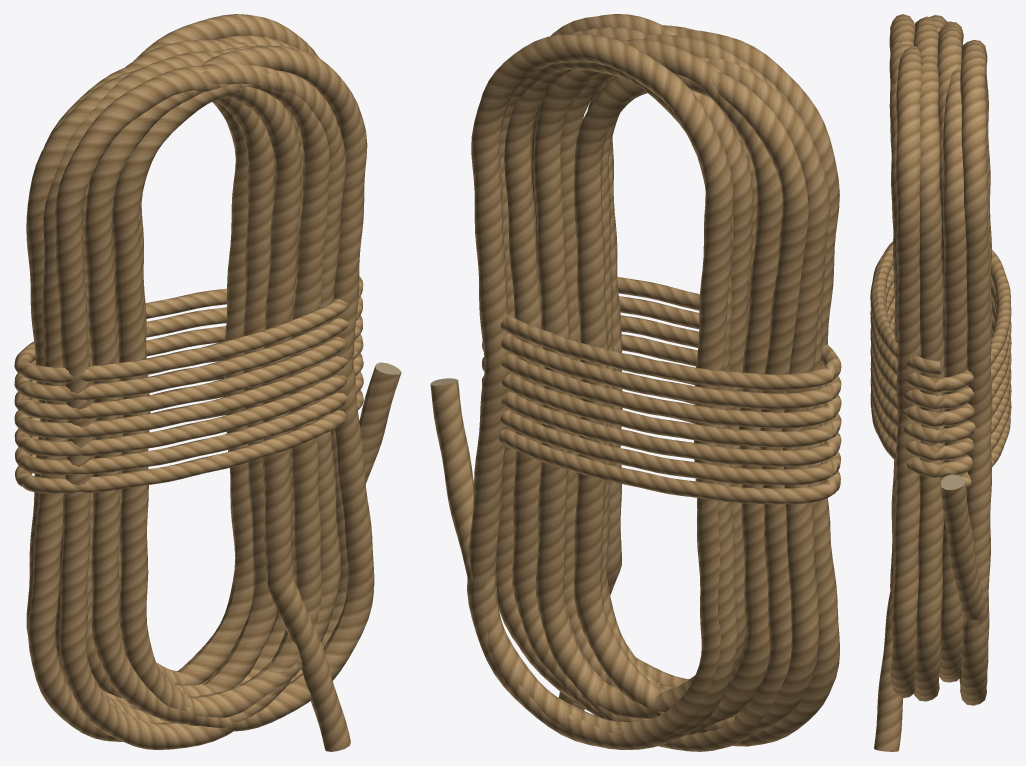
File: Tali_Tambang_10m.fbx
3 views of the same model, side by side, from view 1: azimuth 30°, elevation 25°; view 2: azimuth 150°, elevation 25°; view 3: azimuth 270°, elevation 25° (orthographic). The views are drawn at different scales.
Visible parts, largest first — view 1: TALI_UTAMA_10M, LILITAN_PENGIKAT_TENGAH; view 2: TALI_UTAMA_10M, LILITAN_PENGIKAT_TENGAH; view 3: TALI_UTAMA_10M, LILITAN_PENGIKAT_TENGAH.
Part boxes in pixels (x1=…): TALI_UTAMA_10M: x1=26, y1=14, x2=401, y2=751; LILITAN_PENGIKAT_TENGAH: x1=14, y1=276, x2=363, y2=493; TALI_UTAMA_10M: x1=430, y1=14, x2=839, y2=751; LILITAN_PENGIKAT_TENGAH: x1=482, y1=276, x2=841, y2=504; TALI_UTAMA_10M: x1=874, y1=14, x2=992, y2=751; LILITAN_PENGIKAT_TENGAH: x1=870, y1=241, x2=1011, y2=494.
Size of the model in its own units: 19.67 by 34.72 by 6.7.
Materials: 2 (1 with a texture image).
